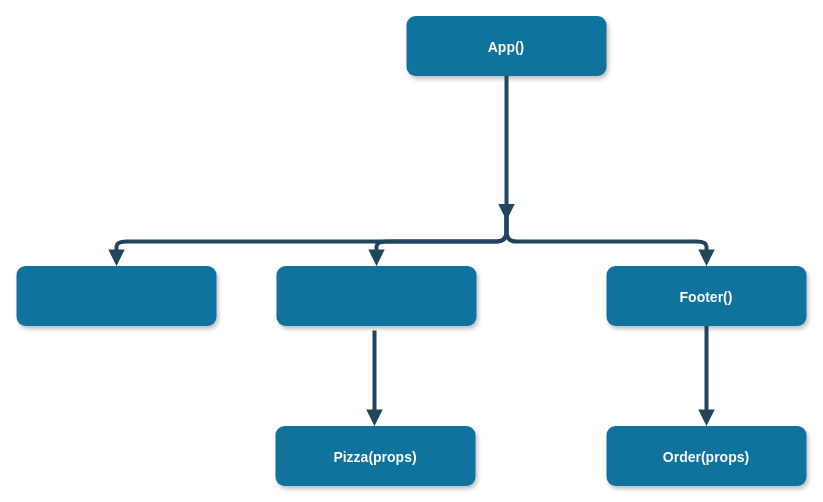
Image size: 823x502. Some labels were removed from this diagram. The centre of each missing label's shape, as x and y in pixels:
"Header()" belongs at point 117,297.
"Menu()" belongs at point 377,297.
